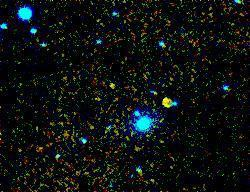star: (152, 82, 182, 112)
